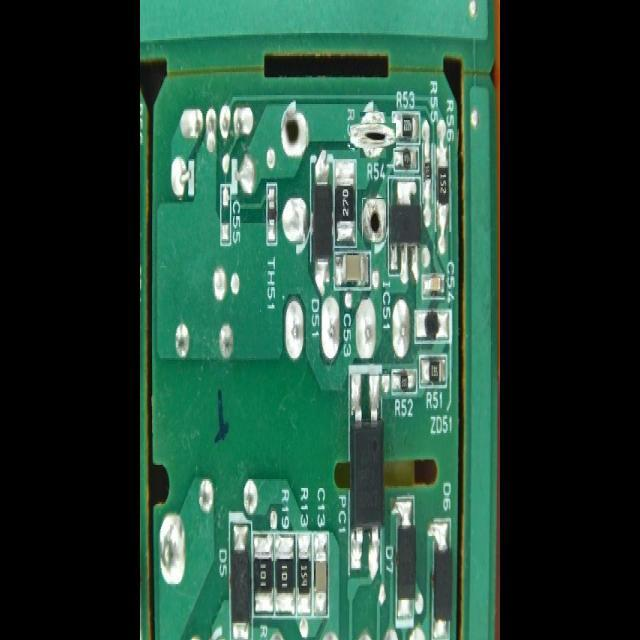damged: (355, 117, 391, 153), (282, 111, 308, 157), (362, 198, 386, 242)
